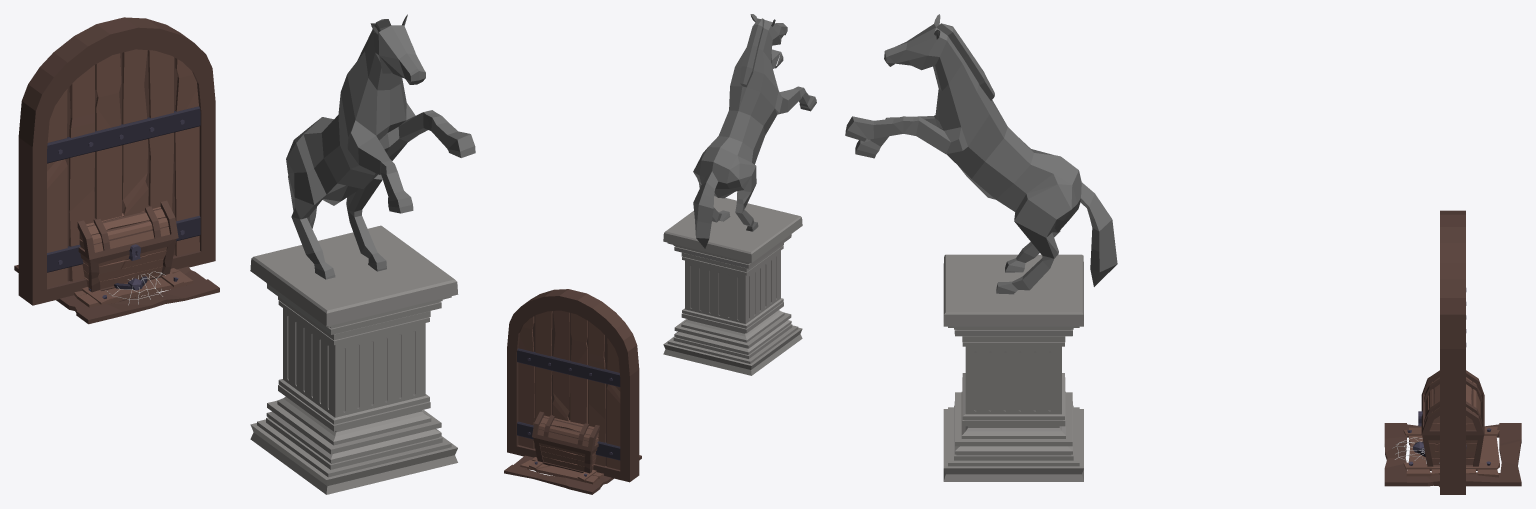
File: quaternius.glb
3 renders of one model, left to right at view 1: azimuth 30°, elevation 25°; view 2: azimuth 150°, elevation 25°; view 3: azimuth 270°, elevation 25°, orthographic. The views are drawn at different scales.
Parts seen in each view (by area): view 1: Arch_Door_bottompivot, Pedestal, Horse, Trapdoor, Chest_Top, Chest_Base; view 2: Arch_Door_bottompivot, Pedestal, Horse, Trapdoor, Chest_Top, Chest_Base; view 3: Pedestal, Horse, Arch_Door_bottompivot, Trapdoor, Chest_Top, Chest_Base.
Part boxes in pixels (box(x1,y1,x2,y2)): Arch_Door_bottompivot: box(18, 17, 215, 305); Pedestal: box(250, 225, 458, 494); Horse: box(286, 14, 475, 279); Trapdoor: box(14, 265, 219, 324); Chest_Top: box(77, 200, 178, 259); Chest_Base: box(80, 239, 176, 292); Arch_Door_bottompivot: box(507, 289, 639, 482); Pedestal: box(663, 196, 802, 375); Horse: box(693, 14, 816, 248); Trapdoor: box(504, 455, 641, 494); Chest_Top: box(532, 411, 599, 451); Chest_Base: box(533, 437, 597, 473); Pedestal: box(943, 254, 1083, 481); Horse: box(845, 14, 1117, 294); Arch_Door_bottompivot: box(1440, 210, 1466, 494); Trapdoor: box(1384, 423, 1521, 486); Chest_Top: box(1421, 370, 1484, 435); Chest_Base: box(1418, 411, 1483, 470).
Size of the model in its own units: 2.42 by 6.27 by 8.39.
